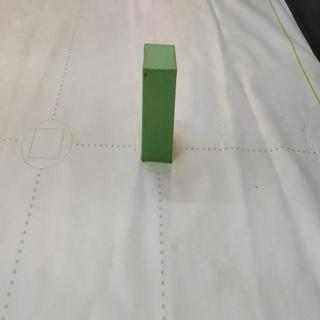greenbox: (139, 41, 178, 166)
